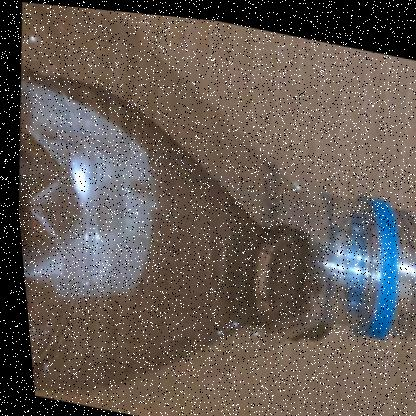open bottle: (99, 48, 416, 416)
